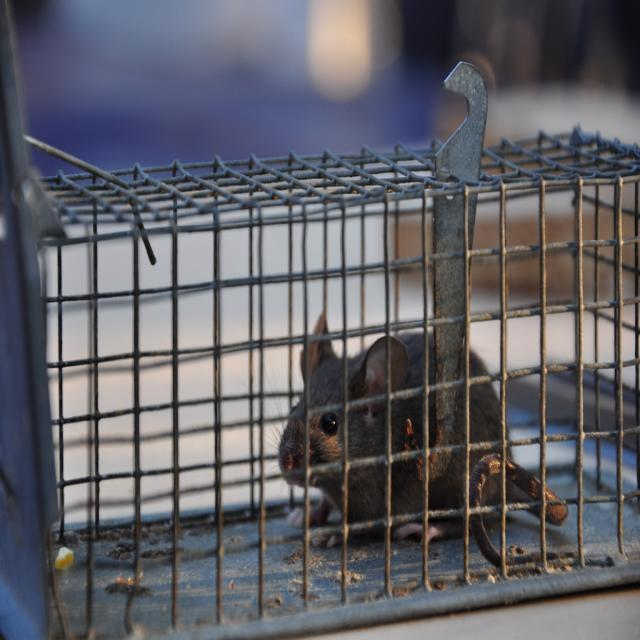rat: (262, 333, 566, 568)
